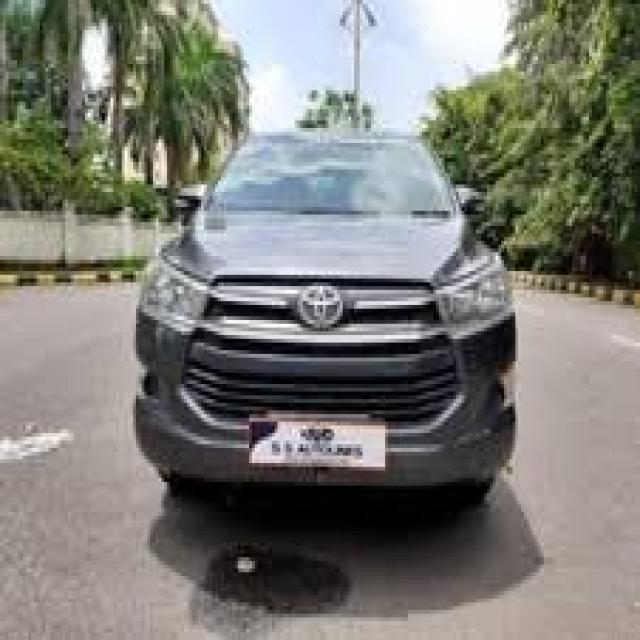light_vehicle: (133, 130, 517, 500)
